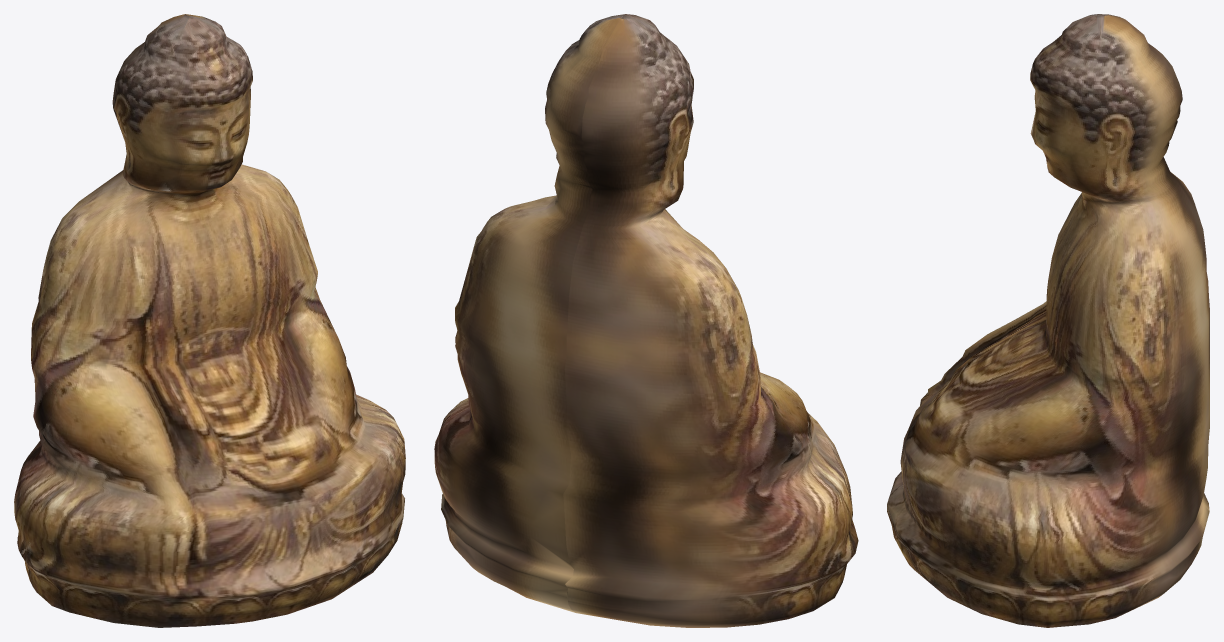
The model's file is seven-2.glb.
The picture shows the model from 3 angles, left to right: view 1: azimuth 30°, elevation 25°; view 2: azimuth 150°, elevation 25°; view 3: azimuth 270°, elevation 25°; orthographic projection. The views are drawn at different scales.
Visible parts, largest first — view 1: seven-2; view 2: seven-2; view 3: seven-2.
Part boxes in pixels (x1,y1,x2,y2): seven-2: (14,14,405,627); seven-2: (434,14,858,627); seven-2: (887,14,1209,627).
Bounding box in the file's own units: 0.7247 × 1 × 0.5472.
Materials: 1 (1 with a texture image).
